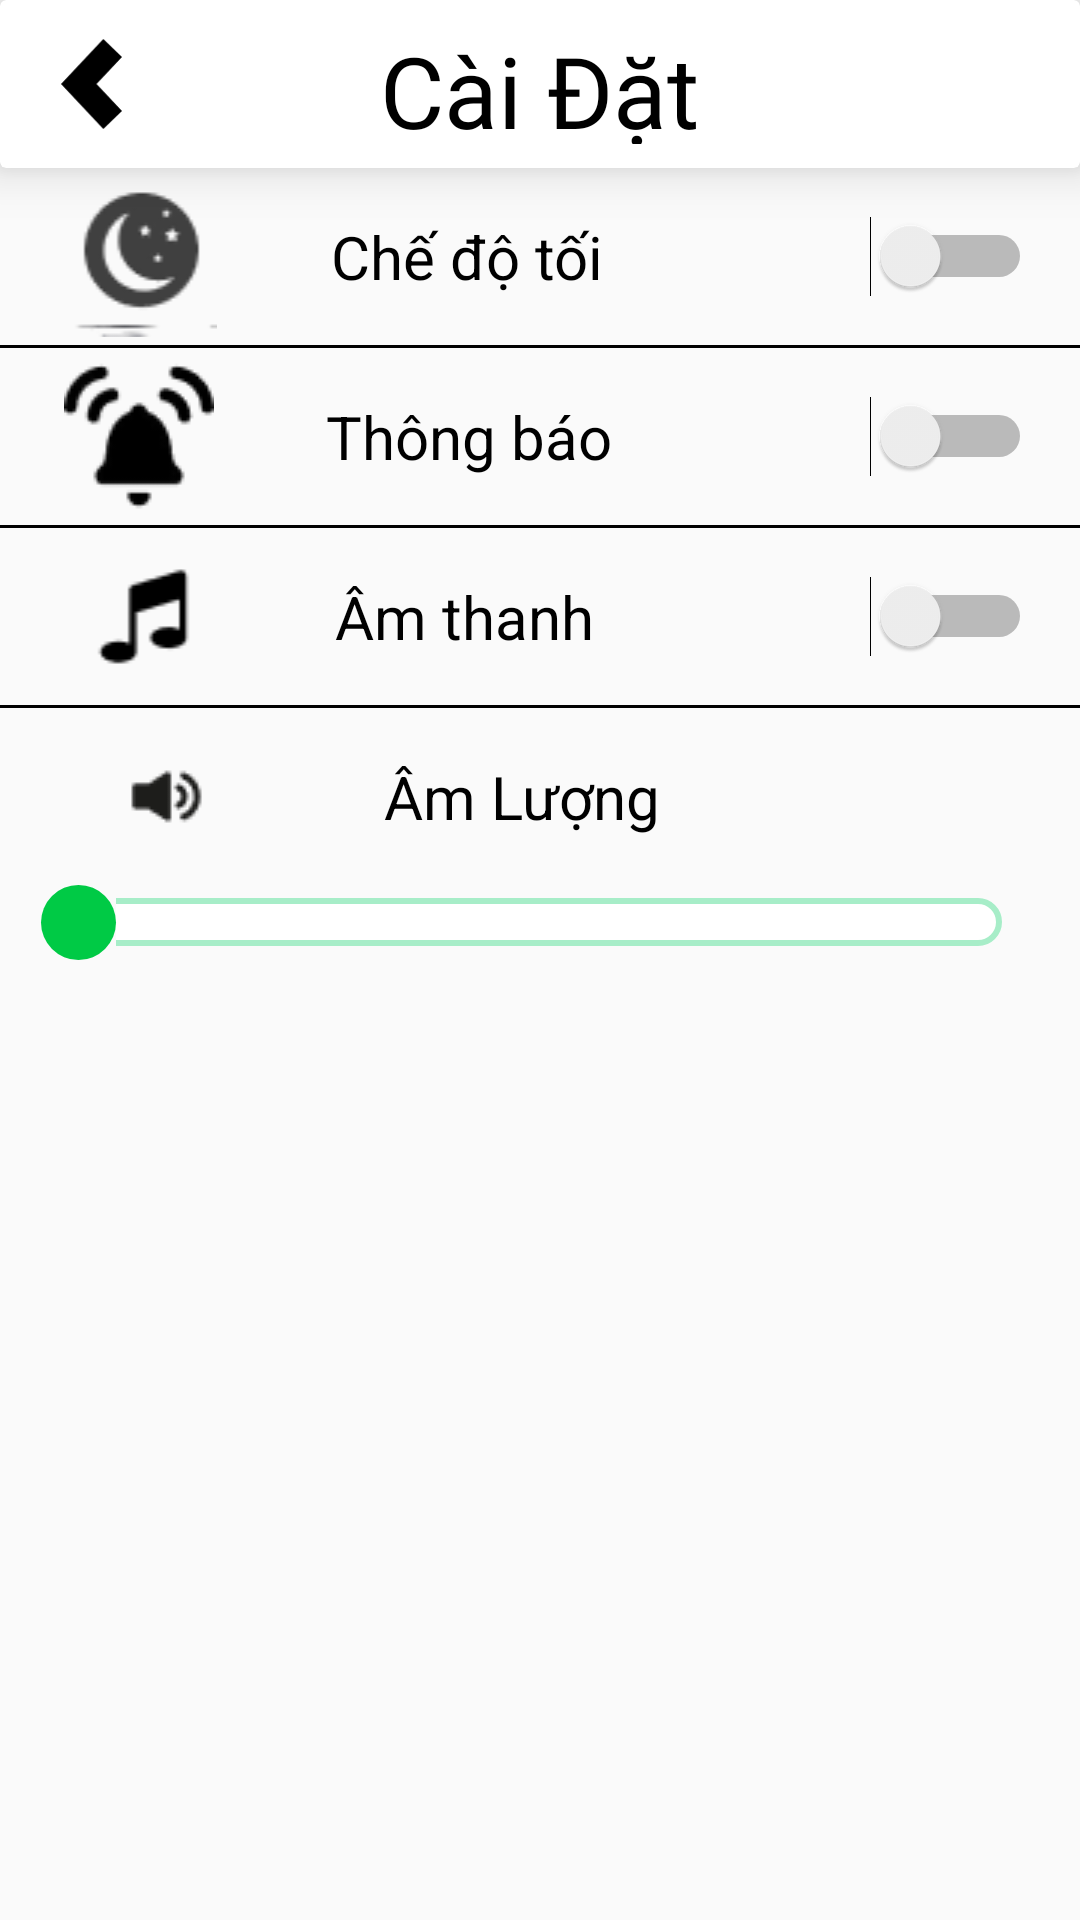

Icon click points for this 1080px×1920px phone screenshot, format point (x, y):
back: point (91, 84)
chuong: point (139, 436)
mode: point (147, 264)
nhac: point (143, 616)
speaker: point (166, 796)
